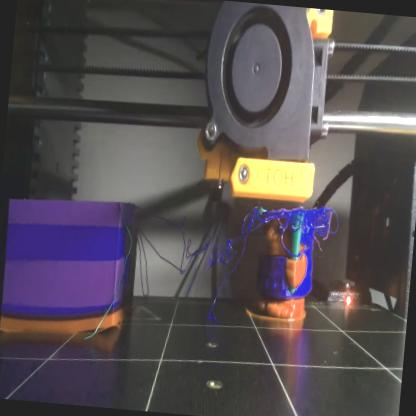fail: (131, 192, 338, 288)
